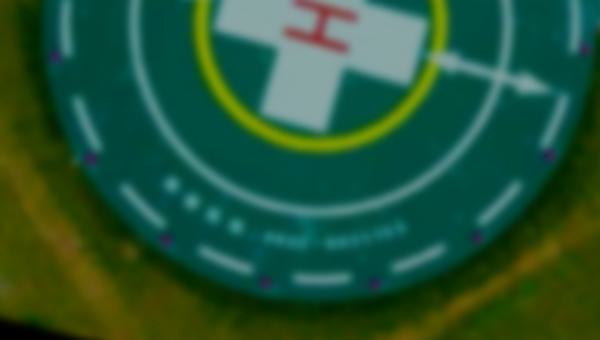Apron: (191, 1, 451, 156)
